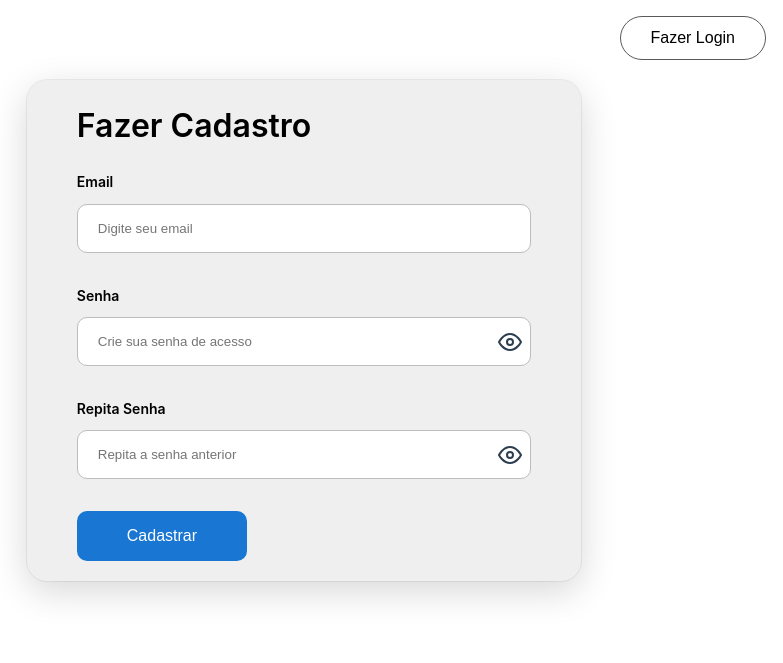
Test: Teste de Register › Email invalido
The image size is (783, 663).
Type "123" into the field with id "emailRegister".
click(304, 229); type("123")  # box [77,204,531,253]
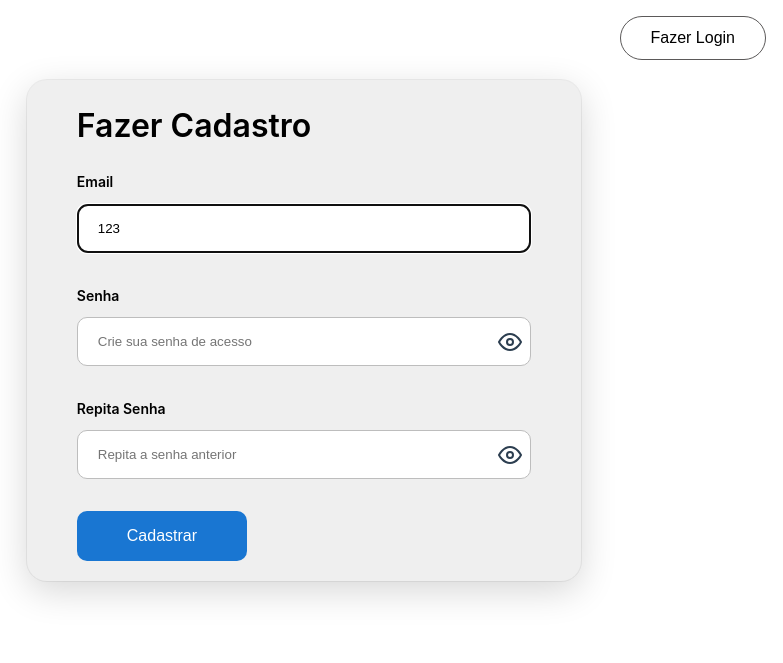
Type "123" into the password field with placeholder "Crie sua senha de acesso".
click(304, 342); type("123")  # box [77,317,531,366]
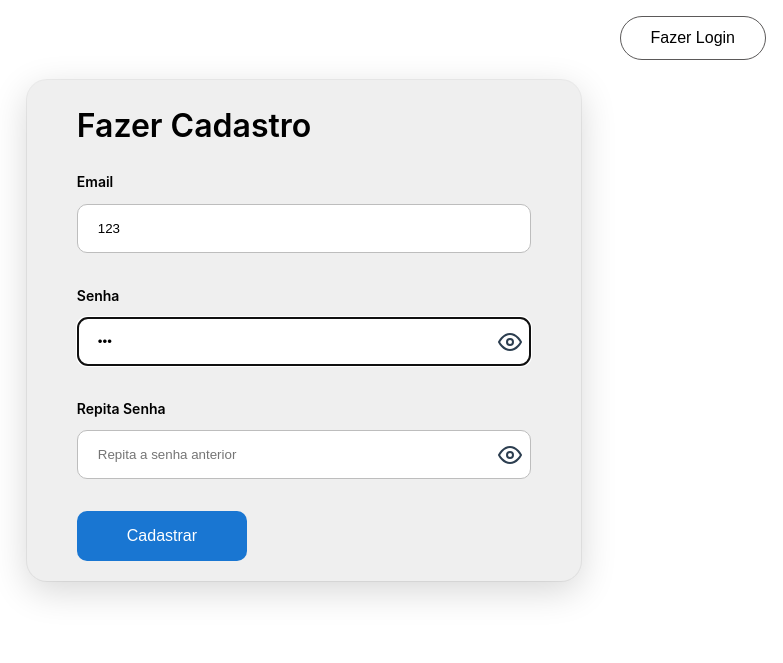
Type "123" into the password field with placeholder "Repita a senha anterior".
click(304, 455); type("123")  # box [77,430,531,479]
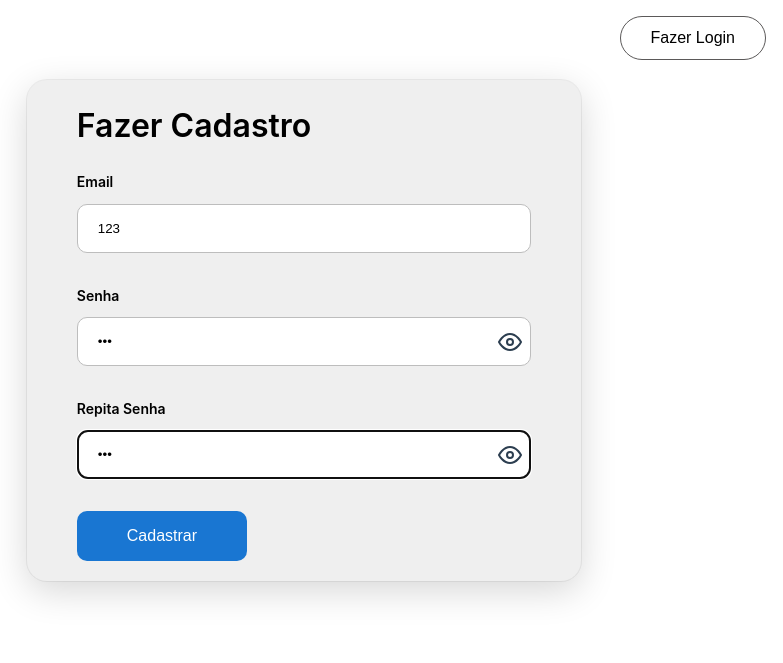
Click the button with id "buttonRegister".
click(162, 536)  # box [77,511,247,561]
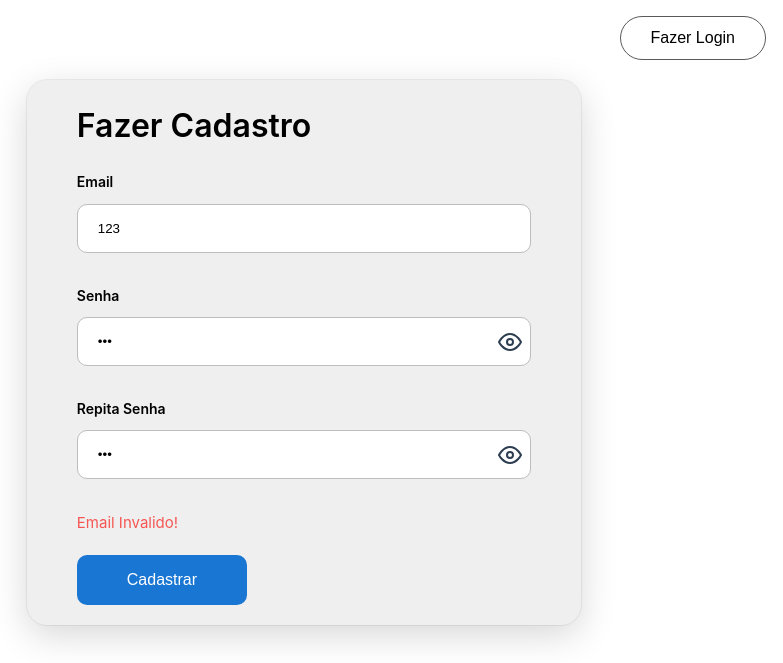
Result: the text "Email Invalido!" is shown at [77,513,178,532]
